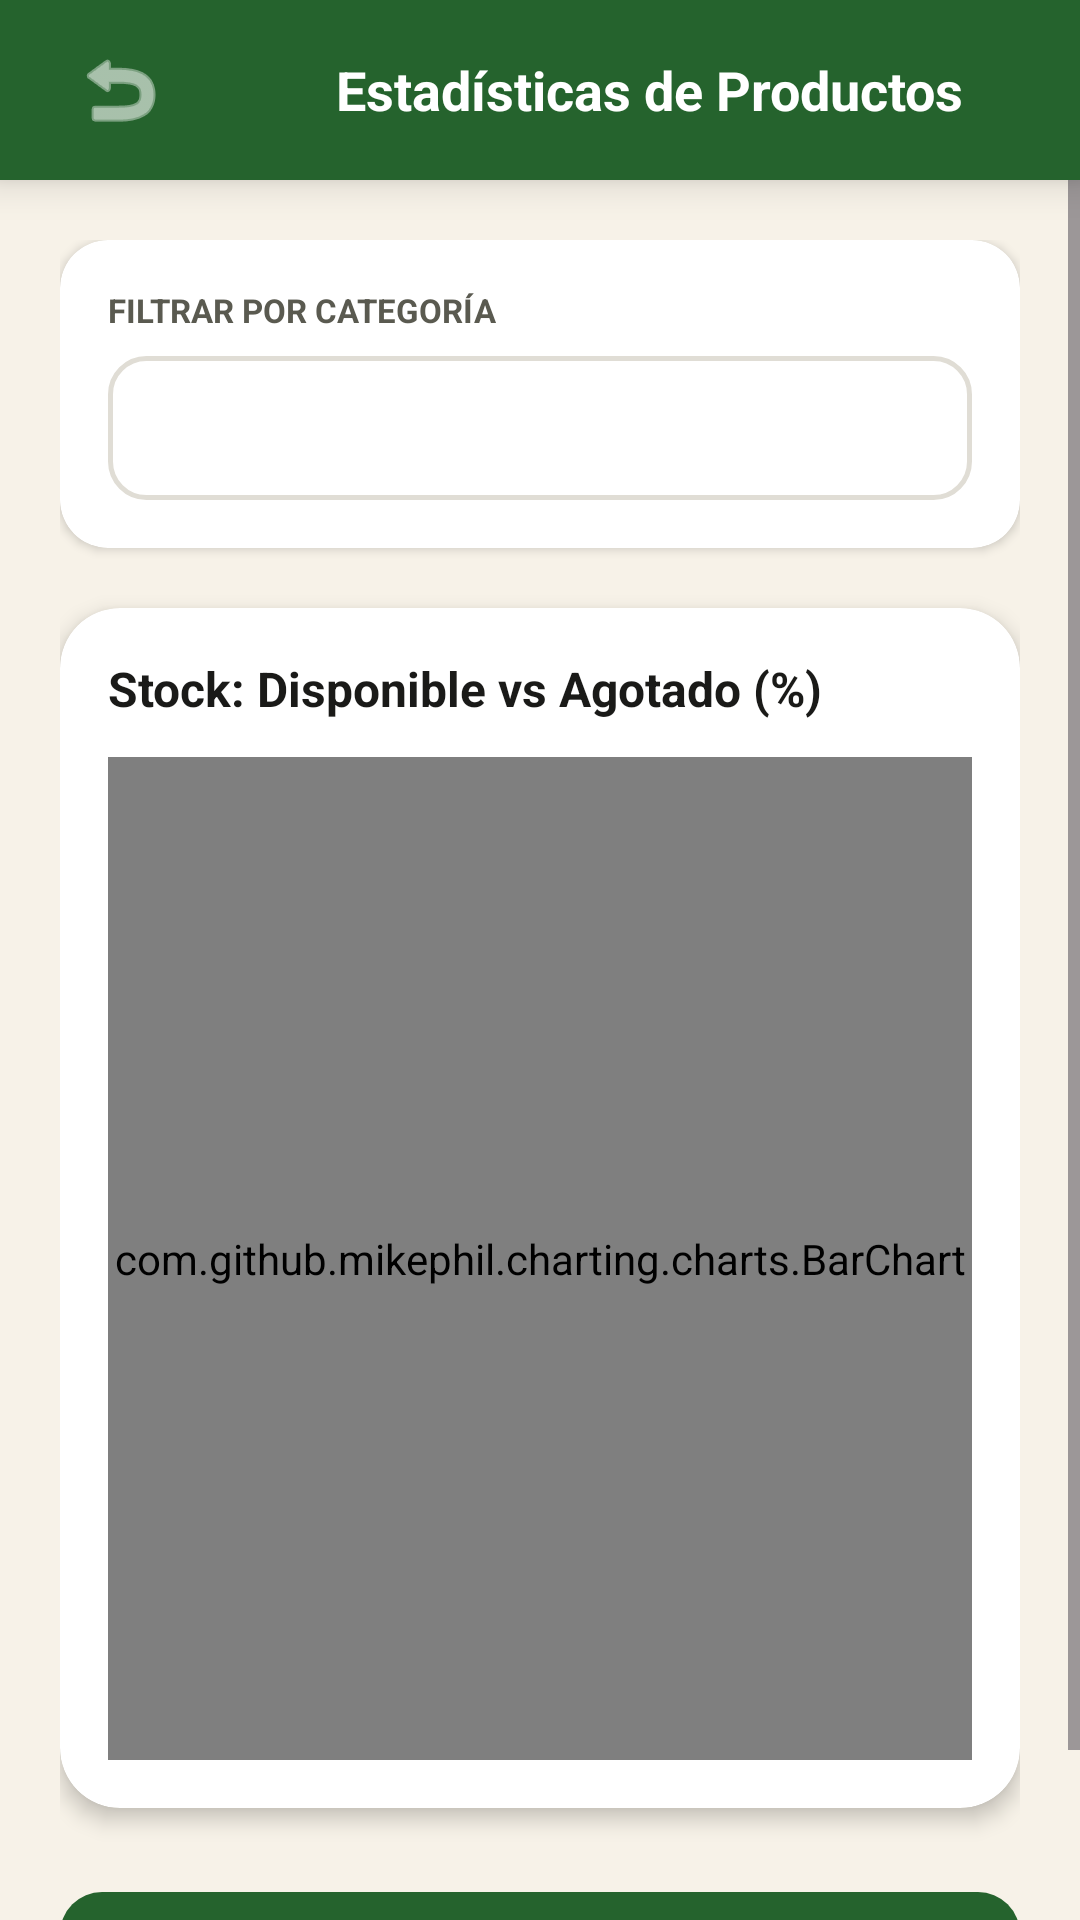

Icons on this 1080w x 1920h Android screen, each with the point to tap as [x,y]:
Volver: [121,90]
